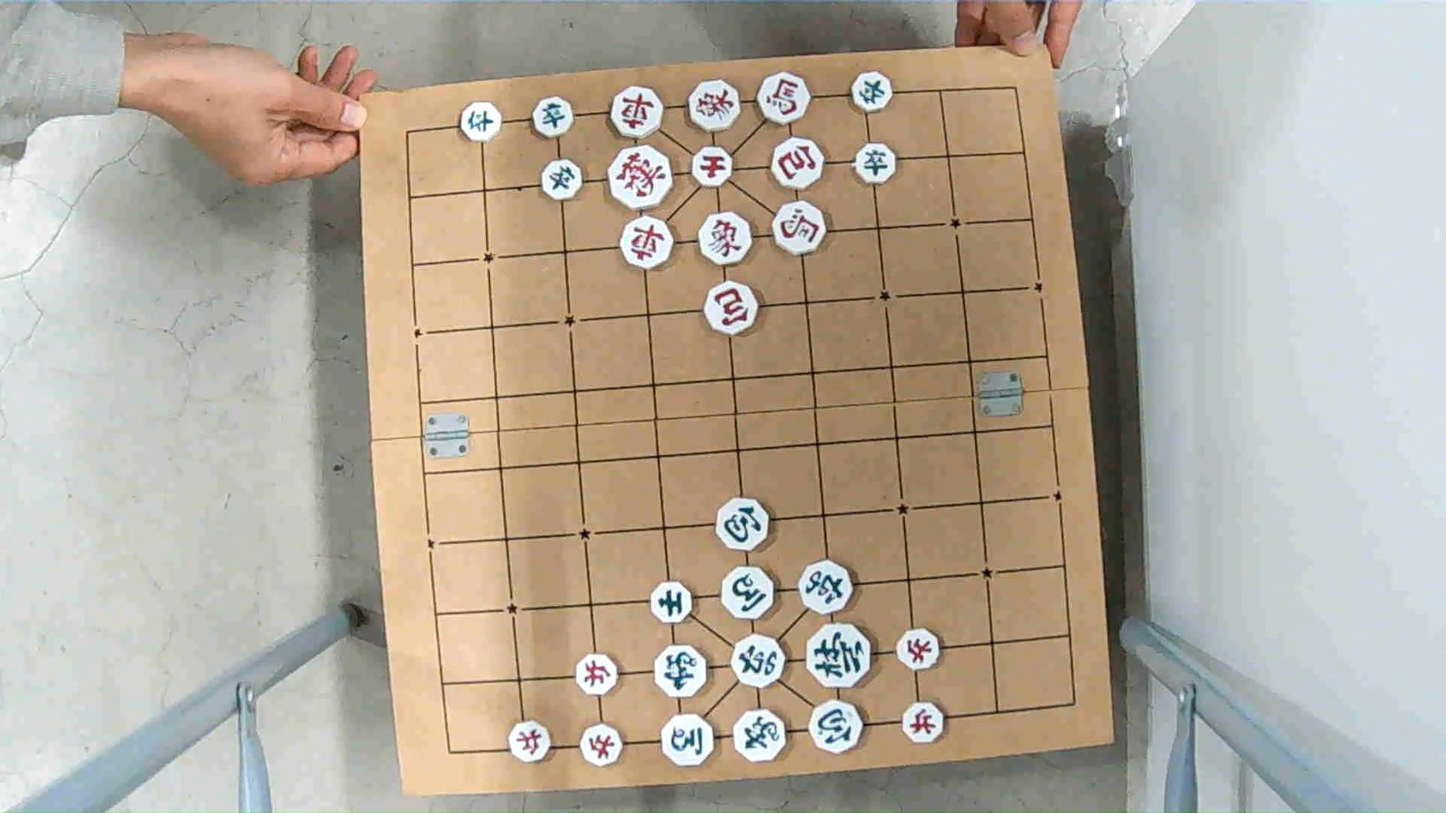cha_green: (795, 563, 853, 613), (734, 638, 790, 688)
cha_red: (611, 90, 664, 139), (622, 223, 676, 269)
jol_green: (540, 162, 584, 200), (856, 144, 901, 181), (532, 100, 574, 139), (850, 74, 893, 111), (459, 105, 502, 142)
jol_red: (578, 723, 622, 766), (575, 655, 621, 693), (897, 629, 941, 668), (901, 702, 946, 740), (508, 723, 552, 761)
ma_green: (722, 567, 776, 623), (658, 714, 715, 764)
ma_red: (774, 204, 831, 254), (755, 76, 810, 123)
po_green: (716, 501, 773, 550), (806, 702, 861, 751)
po_red: (702, 285, 758, 334), (774, 142, 828, 191)
sa_green: (651, 580, 696, 625)
sa_red: (692, 146, 736, 184)
sang_green: (651, 644, 707, 700), (731, 711, 786, 763)
sang_red: (700, 214, 756, 263), (690, 81, 744, 129)
wang_green: (807, 623, 868, 687)
wang_red: (607, 150, 672, 209)
